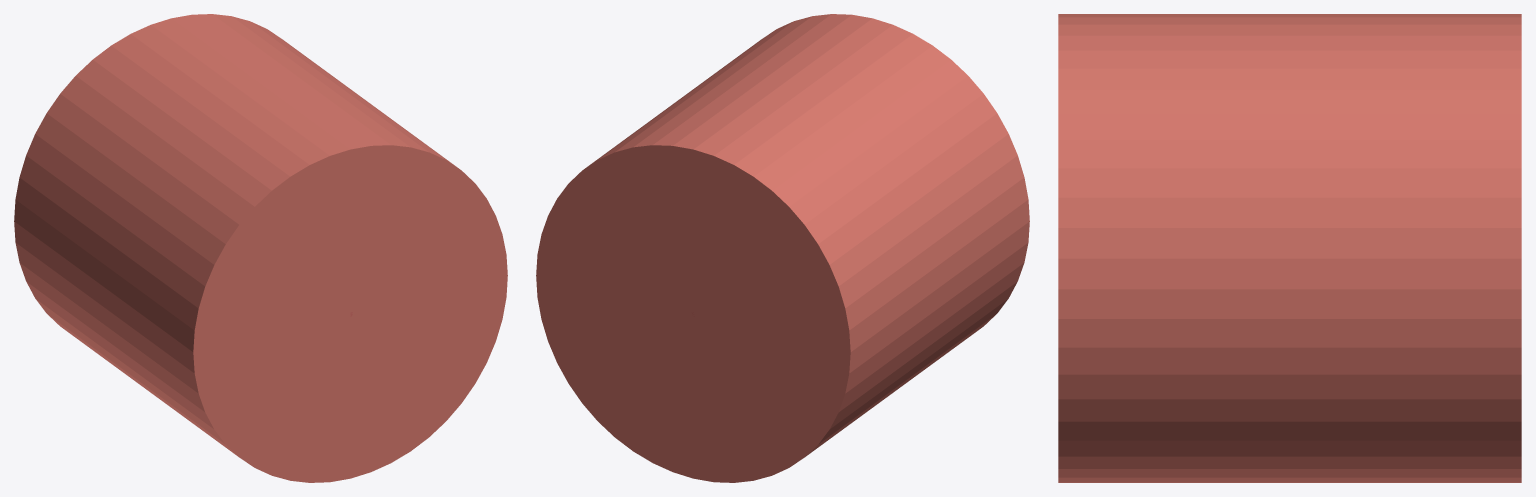
The model's file is tru.glb.
3 renders of one model, left to right at view 1: azimuth 30°, elevation 25°; view 2: azimuth 150°, elevation 25°; view 3: azimuth 270°, elevation 25°, orthographic. The views are drawn at different scales.
Parts seen in each view (by area): view 1: world; view 2: world; view 3: world.
Part boxes in pixels (left/top/right/bottom): world: left=14, top=14, right=507, bottom=482; world: left=536, top=14, right=1029, bottom=482; world: left=1058, top=14, right=1521, bottom=482.
Bounding box in the file's own units: 0.76 × 0.76 × 0.75.
